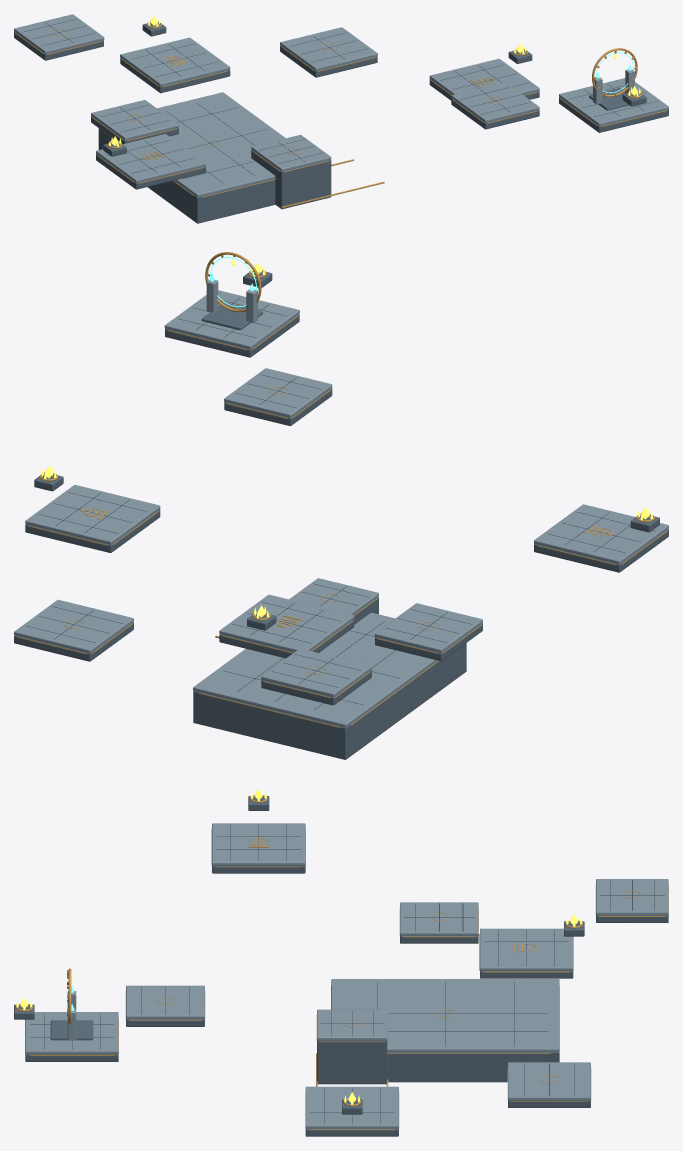
The model's file is Foldlight_Tower.glb.
3 renders of one model, top to bottom at view 1: azimuth 30°, elevation 25°; view 2: azimuth 150°, elevation 25°; view 3: azimuth 270°, elevation 25°, orthographic. The views are drawn at different scales.
Visible parts, largest first — view 1: r4_start_deck, r4_start, r4_west_deck, r4_north_deck, r4_b_deck, r4_pillar, r4_south_deck, r4_goal_deck, r4_n1_deck, r4_e1_deck, r4_w1_deck, r4_pillar_deck (+8 smaller); view 2: r4_start_deck, r4_start, r4_south_deck, r4_north_deck, r4_west_deck, r4_b_deck, r4_goal_deck, r4_n1_deck, r4_w1_deck, r4_e1_deck, r4_pillar_deck, r4_south (+8 smaller); view 3: r4_start_deck, r4_start, r4_north_deck, r4_west_deck, r4_south_deck, r4_b_deck, r4_pillar, r4_goal_deck, r4_n1_deck, r4_e1_deck, r4_w1_deck, r4_pillar_deck (+9 smaller).
Boxes of the visible parts, bbox=[...] form: r4_start_deck: bbox=[157, 92, 285, 197]; r4_start: bbox=[98, 128, 275, 223]; r4_west_deck: bbox=[120, 37, 230, 86]; r4_north_deck: bbox=[96, 134, 205, 182]; r4_b_deck: bbox=[280, 27, 377, 70]; r4_pillar: bbox=[251, 150, 331, 209]; r4_south_deck: bbox=[429, 58, 539, 94]; r4_goal_deck: bbox=[559, 78, 668, 125]; r4_n1_deck: bbox=[14, 14, 104, 53]; r4_e1_deck: bbox=[451, 82, 539, 122]; r4_w1_deck: bbox=[91, 100, 178, 140]; r4_pillar_deck: bbox=[251, 134, 331, 171]; r4_start_deck: bbox=[193, 612, 437, 727]; r4_start: bbox=[193, 643, 466, 759]; r4_south_deck: bbox=[25, 485, 160, 544]; r4_north_deck: bbox=[534, 504, 668, 564]; r4_west_deck: bbox=[219, 594, 354, 652]; r4_b_deck: bbox=[14, 599, 133, 653]; r4_goal_deck: bbox=[164, 290, 299, 349]; r4_n1_deck: bbox=[261, 648, 371, 697]; r4_w1_deck: bbox=[374, 603, 482, 652]; r4_e1_deck: bbox=[224, 368, 332, 417]; r4_pillar_deck: bbox=[289, 578, 378, 614]; r4_south: bbox=[25, 509, 160, 552]; r4_start_deck: bbox=[331, 979, 559, 1051]; r4_start: bbox=[387, 1052, 559, 1082]; r4_north_deck: bbox=[212, 823, 305, 865]; r4_west_deck: bbox=[480, 928, 573, 970]; r4_south_deck: bbox=[305, 1086, 398, 1128]; r4_b_deck: bbox=[508, 1062, 590, 1100]; r4_pillar: bbox=[317, 1040, 387, 1084]; r4_goal_deck: bbox=[25, 1012, 118, 1054]; r4_n1_deck: bbox=[596, 879, 668, 915]; r4_e1_deck: bbox=[126, 985, 204, 1018]; r4_w1_deck: bbox=[400, 902, 478, 935]; r4_pillar_deck: bbox=[317, 1009, 387, 1040].
Size of the model in its own units: 29.6 by 11.29 by 31.57.
